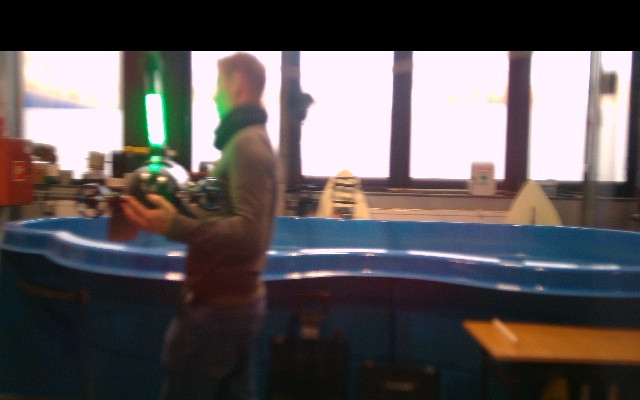green: (144, 93, 165, 150)
